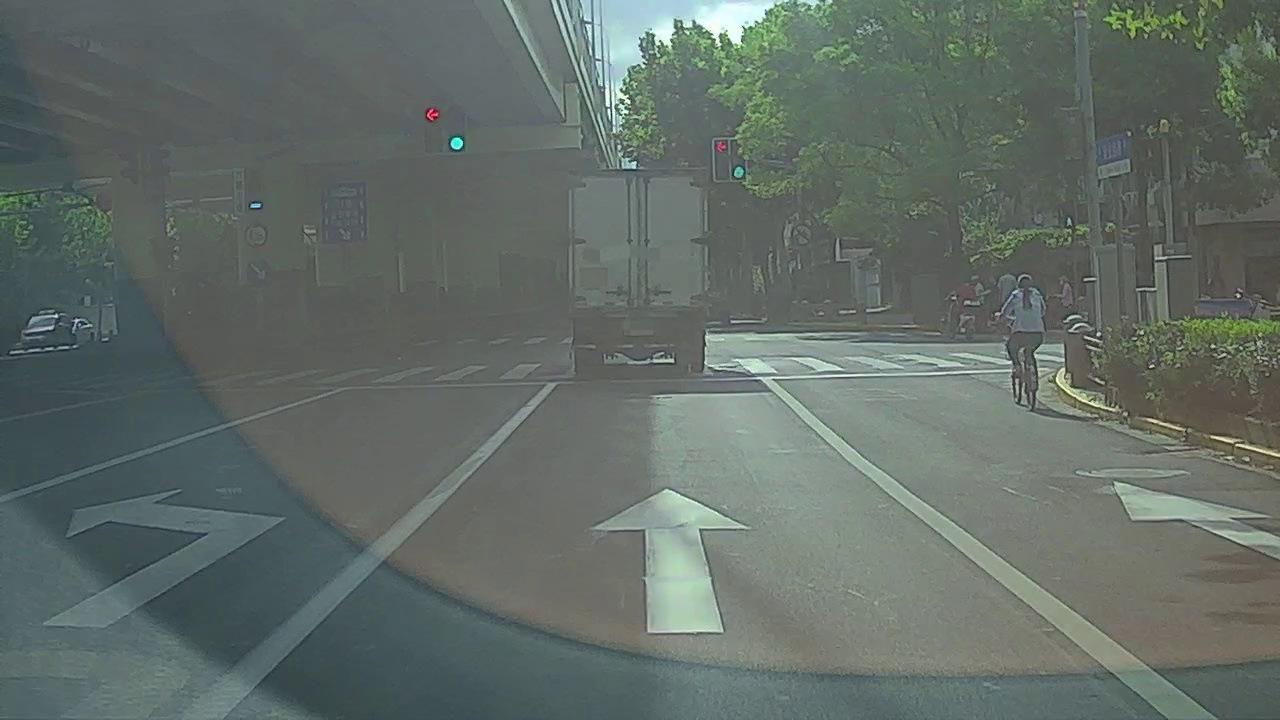traffic_light: (444, 110, 462, 153), (425, 108, 442, 151), (711, 140, 729, 179), (730, 140, 745, 180)
